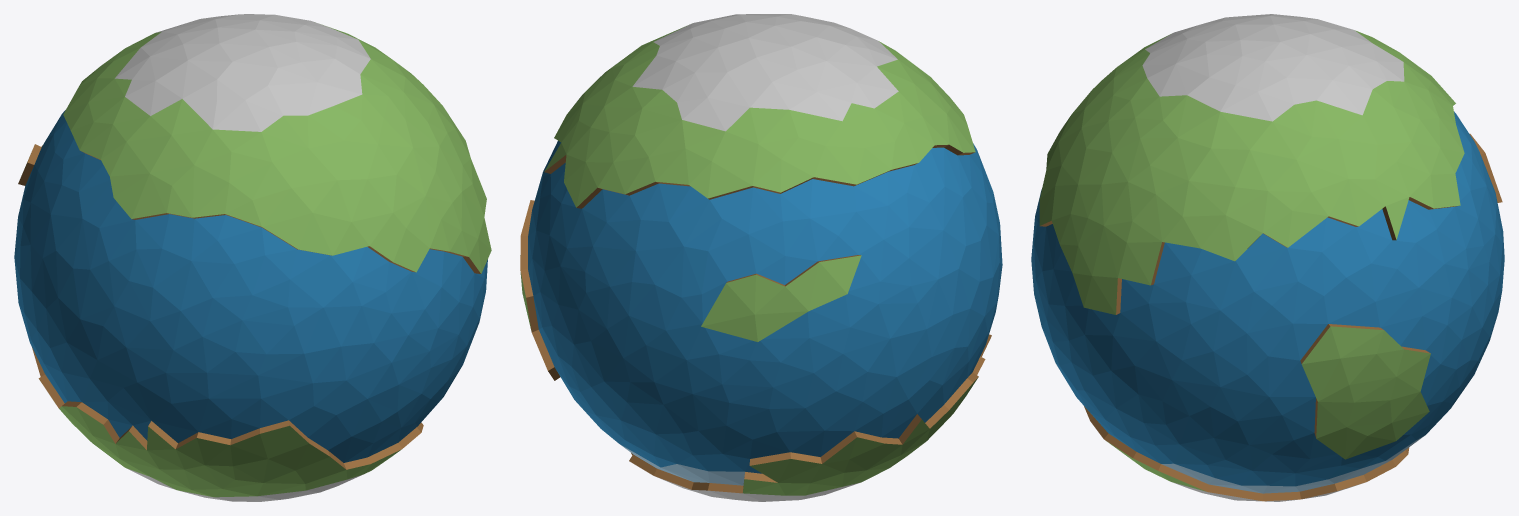
The model's file is PlanetEarth.fbx.
The picture shows the model from 3 angles, left to right: view 1: azimuth 30°, elevation 25°; view 2: azimuth 150°, elevation 25°; view 3: azimuth 270°, elevation 25°; orthographic projection.
Visible parts, largest first — view 1: Planet Earth; view 2: Planet Earth; view 3: Planet Earth.
Boxes of the visible parts, left/top/right/bottom form: Planet Earth: left=14, top=14, right=491, bottom=501; Planet Earth: left=520, top=14, right=1002, bottom=501; Planet Earth: left=1031, top=14, right=1504, bottom=501.
Bounding box in the file's own units: 209 × 213 × 207.
